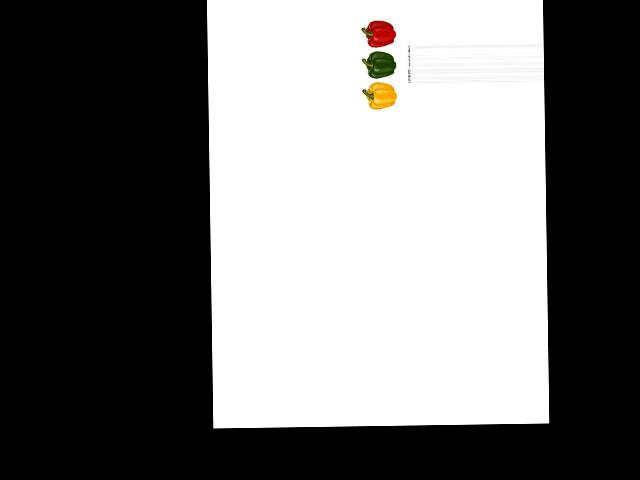bell_pepper: (362, 80, 399, 111)
